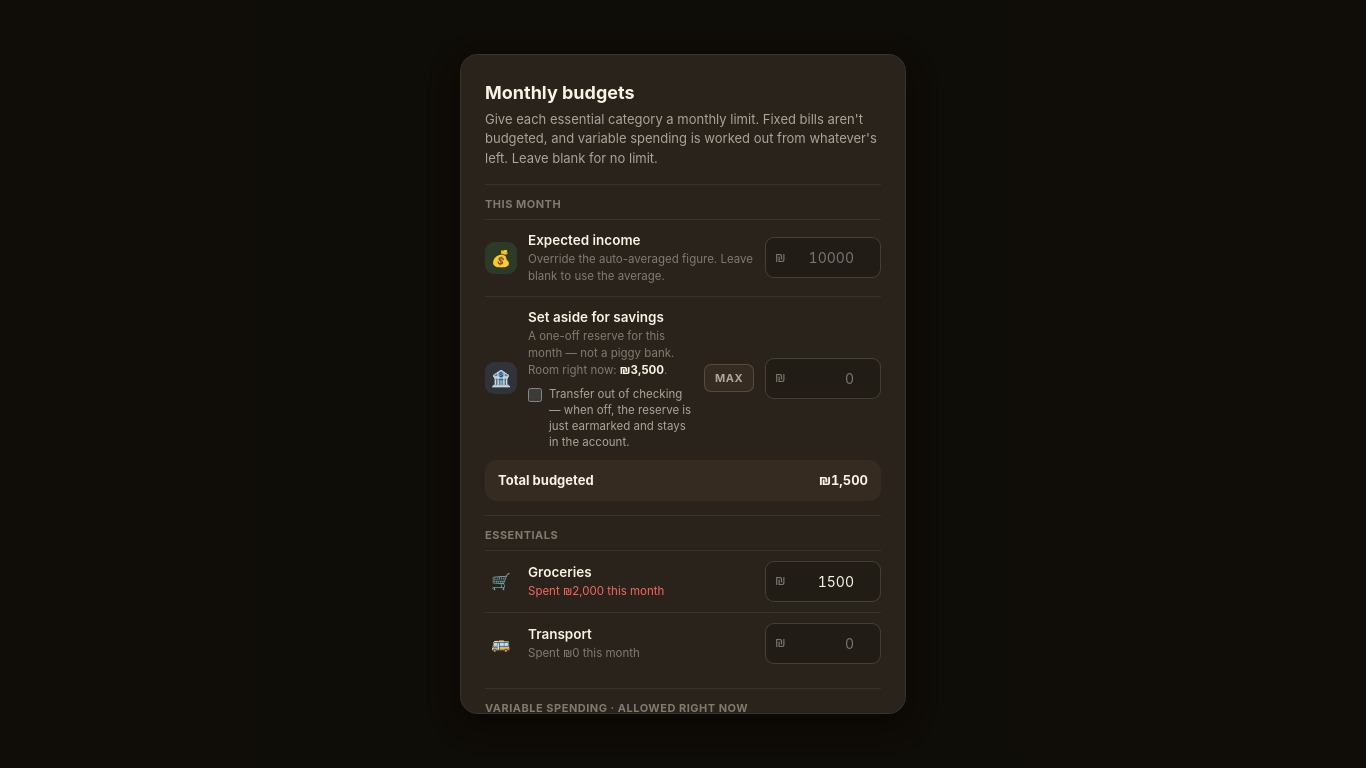
Test: BudgetEditorModal › Max fills the savings reserve with the remaining room
Click the button "Max".
click(729, 378)  # box 704,364 -> 754,392
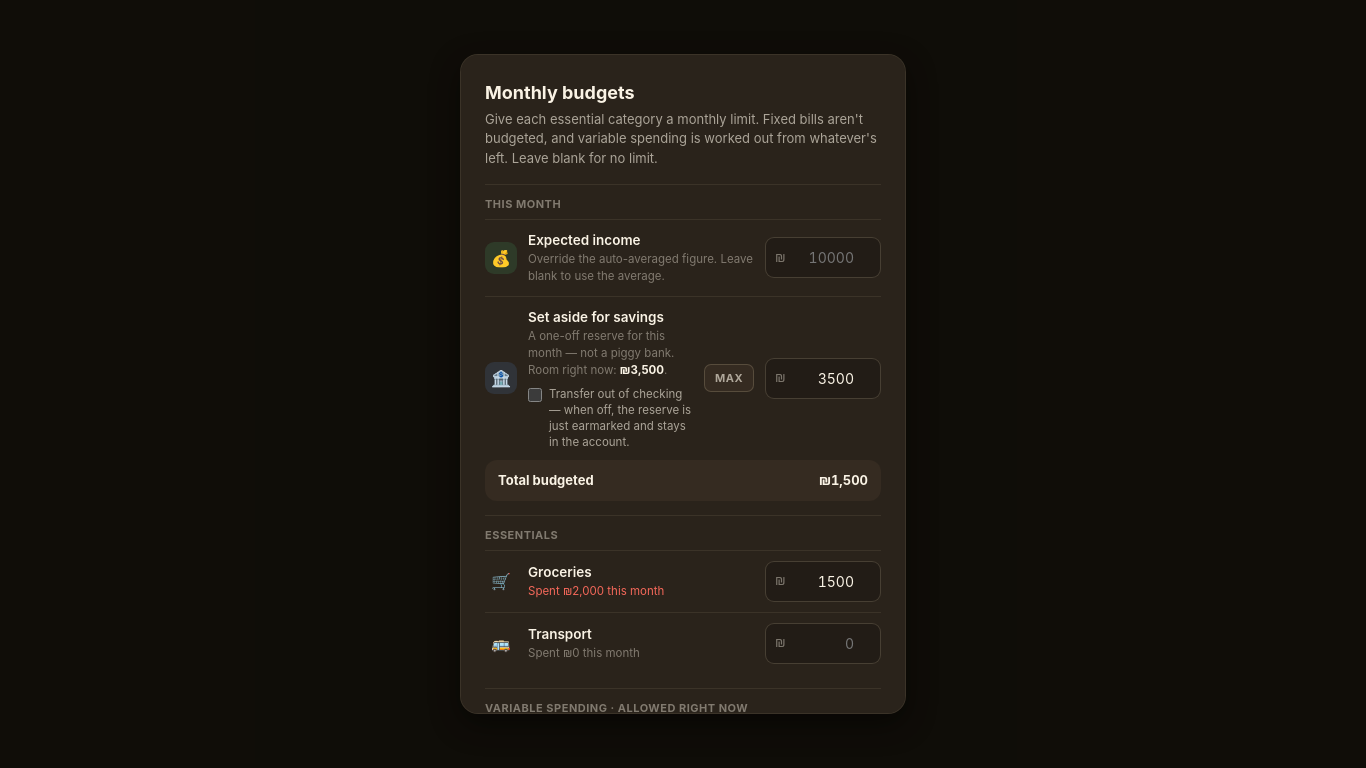
Check: the number field showing "3500" in the row of "₪3,500" is shown, box 765,358 -> 881,399
